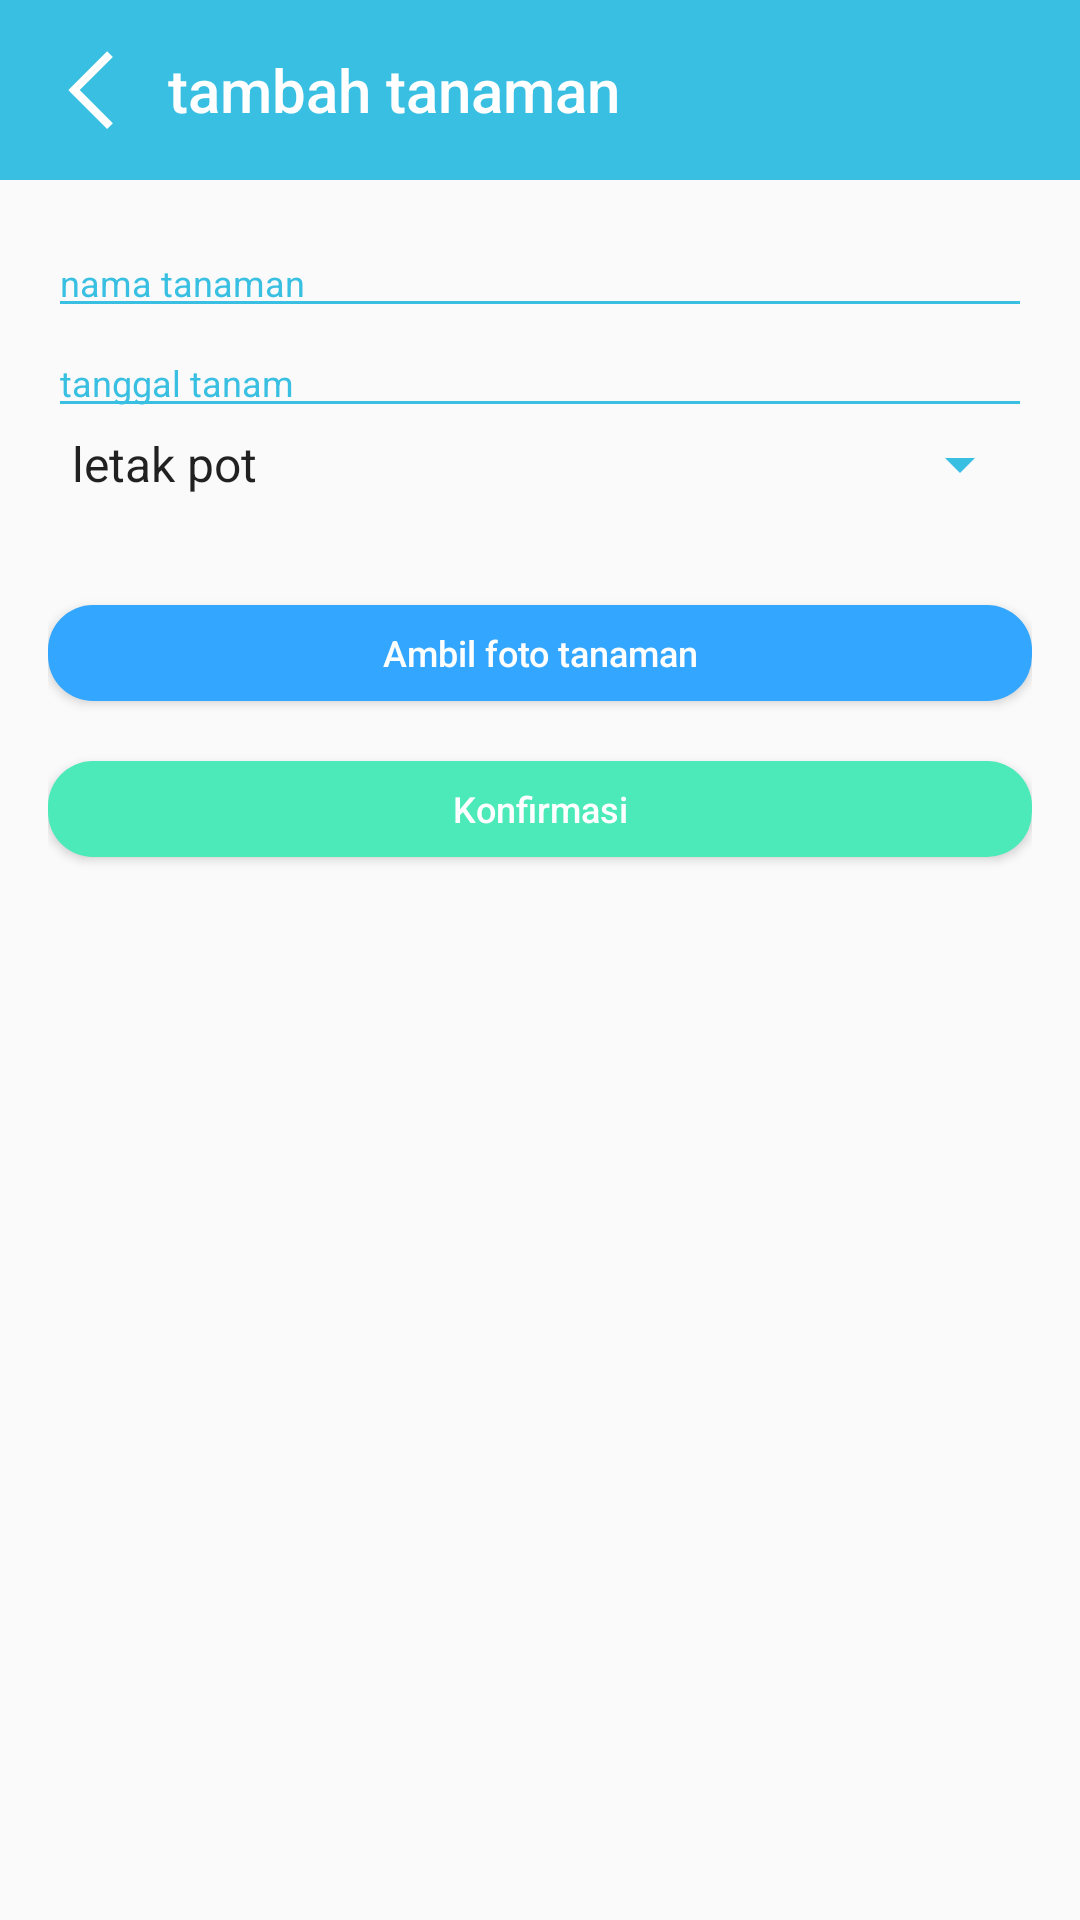

Named icons in this screenshot (1080*1920) and their centers, point (x, y):
back: point (90, 90)
